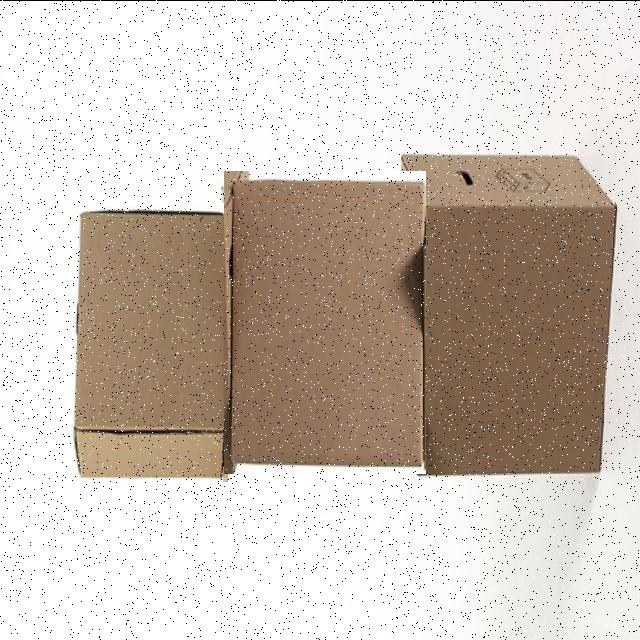normal: (402, 147, 620, 479), (224, 170, 426, 473), (70, 202, 228, 481)
